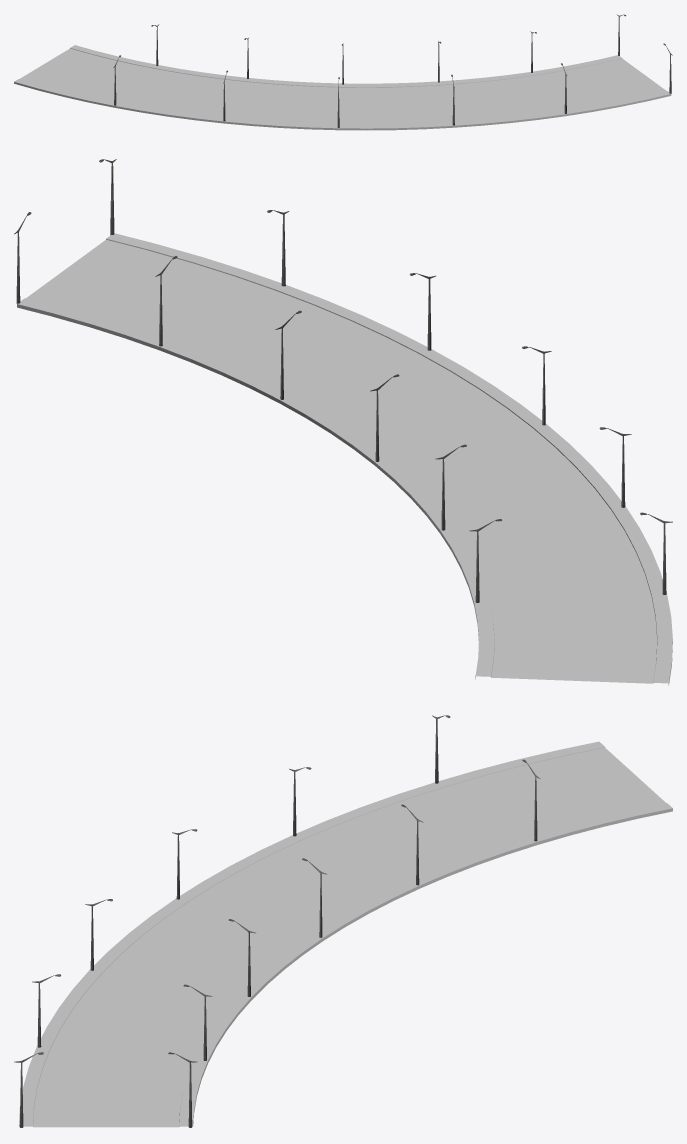
File: Big_Road_65.FBX
3 views of the same model, one above another, from view 1: azimuth 30°, elevation 25°; view 2: azimuth 150°, elevation 25°; view 3: azimuth 270°, elevation 25° (orthographic). The views are drawn at different scales.
Visible parts, largest first — view 1: Big_Road_65, city_light012; view 2: Big_Road_65, city_light012; view 3: Big_Road_65, city_light012.
Boxes of the visible parts, x1,y1,x2,y2 form: Big_Road_65: (14, 45, 671, 130); city_light012: (113, 14, 672, 127); Big_Road_65: (17, 233, 672, 685); city_light012: (14, 159, 672, 602); Big_Road_65: (19, 741, 672, 1127); city_light012: (14, 715, 540, 1127).
Bounding box in the file's own units: 119 × 85.69 × 11.04.
